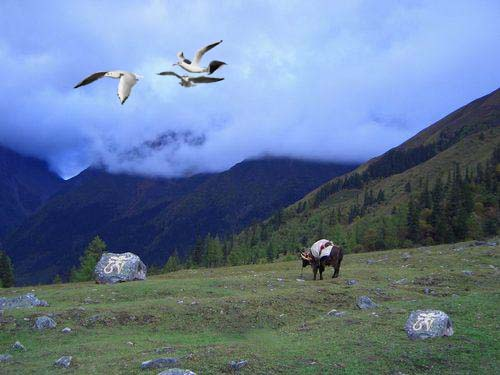copymove: (404, 305, 456, 338)
removal: (233, 320, 279, 341)
spliced: (69, 39, 229, 102)
